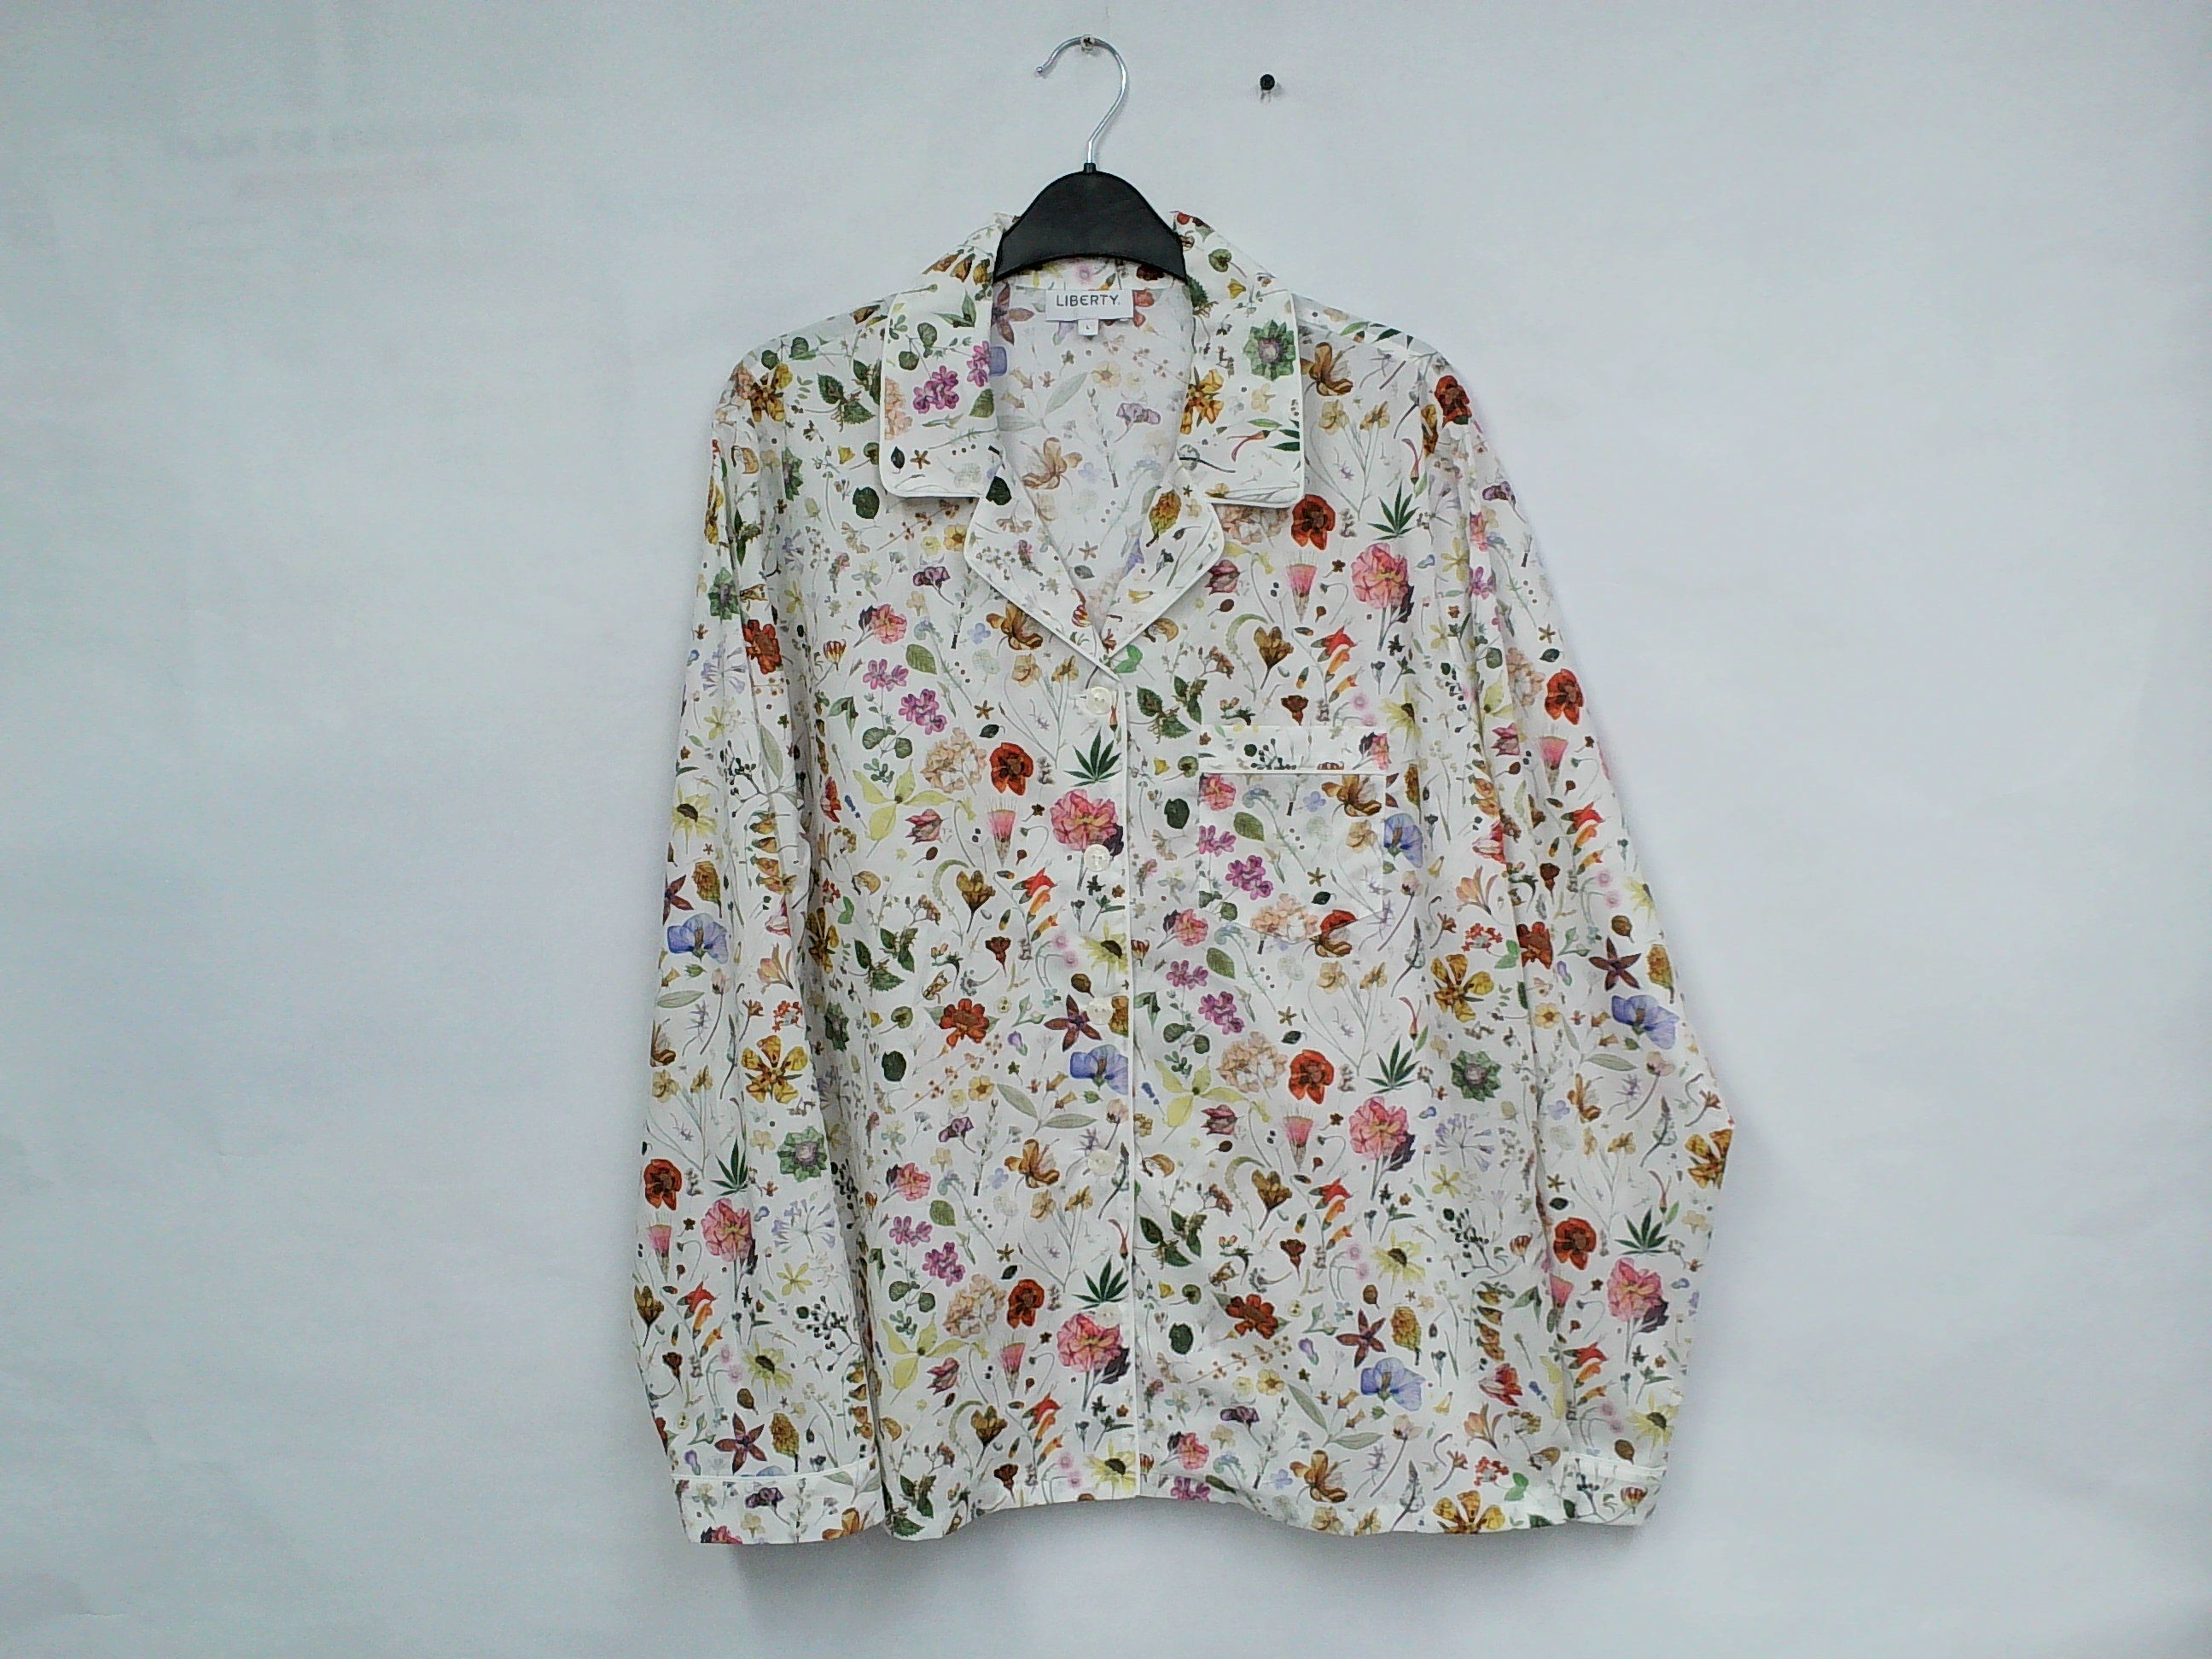wrinkles: (1170, 1436, 1350, 1549)
